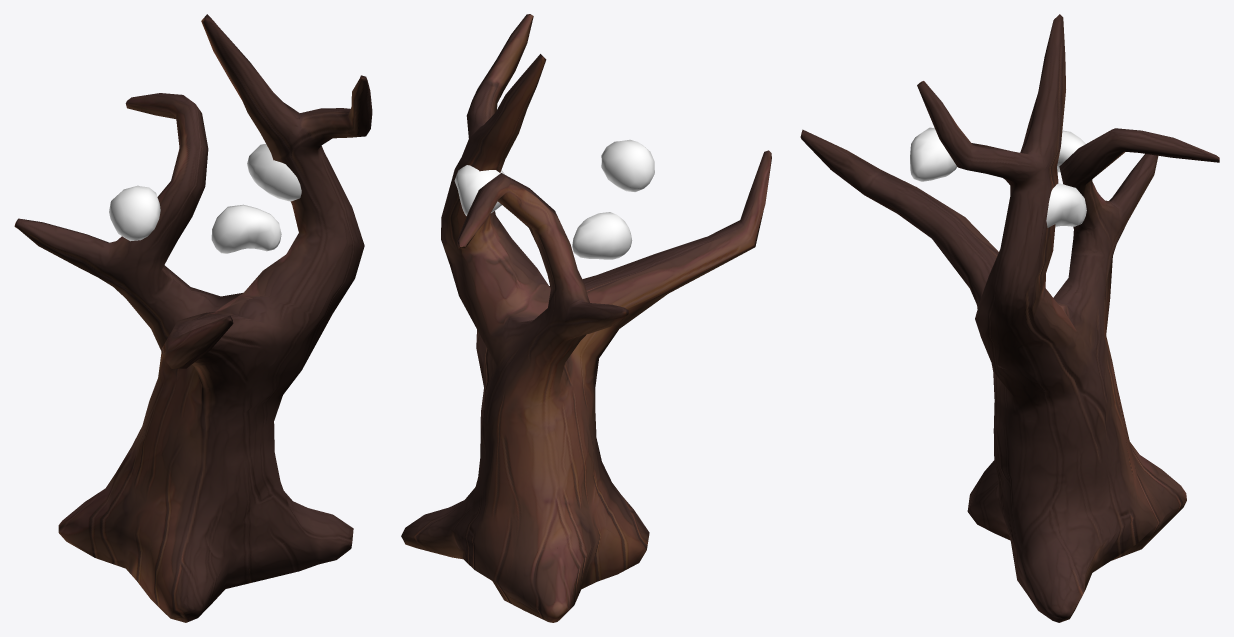
Rendered from tree3.fbx.
3 views of the same model, side by side, from view 1: azimuth 30°, elevation 25°; view 2: azimuth 150°, elevation 25°; view 3: azimuth 270°, elevation 25° (orthographic). The views are drawn at different scales.
Parts seen in each view (by area): view 1: polySurface55; view 2: polySurface55; view 3: polySurface55.
Boxes of the visible parts, x1,y1,x2,y2 form: polySurface55: [14, 14, 372, 622]; polySurface55: [401, 14, 771, 622]; polySurface55: [800, 14, 1219, 622].
Size of the model in its own units: 541 by 1014 by 706.
